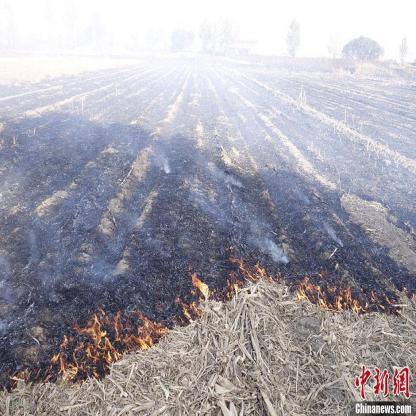fire: (177, 252, 401, 327), (16, 311, 174, 384)
